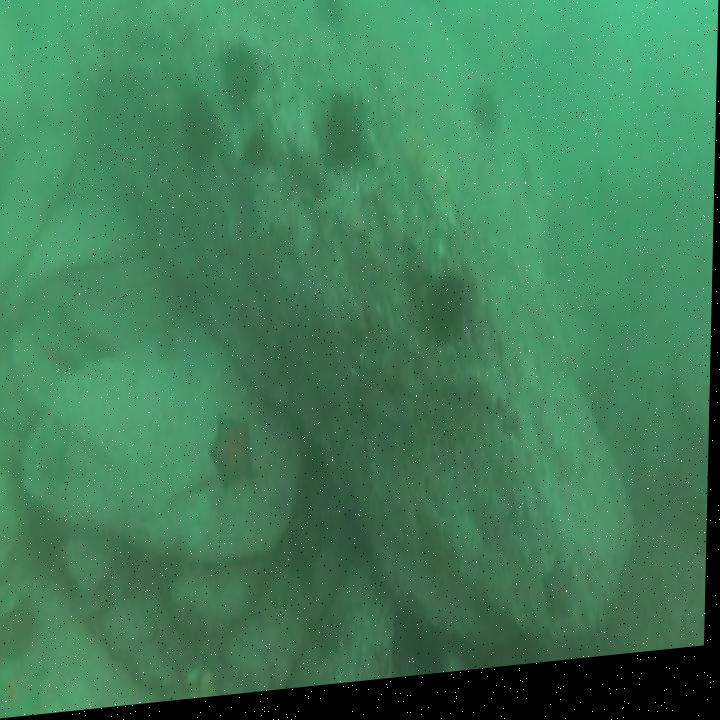echinus: (422, 268, 476, 366), (323, 90, 372, 185), (177, 92, 225, 186), (213, 41, 263, 121), (468, 86, 504, 150), (242, 128, 276, 185), (314, 0, 350, 40)
starfish: (209, 412, 259, 506), (312, 602, 350, 679), (544, 558, 580, 634), (0, 588, 20, 681)
